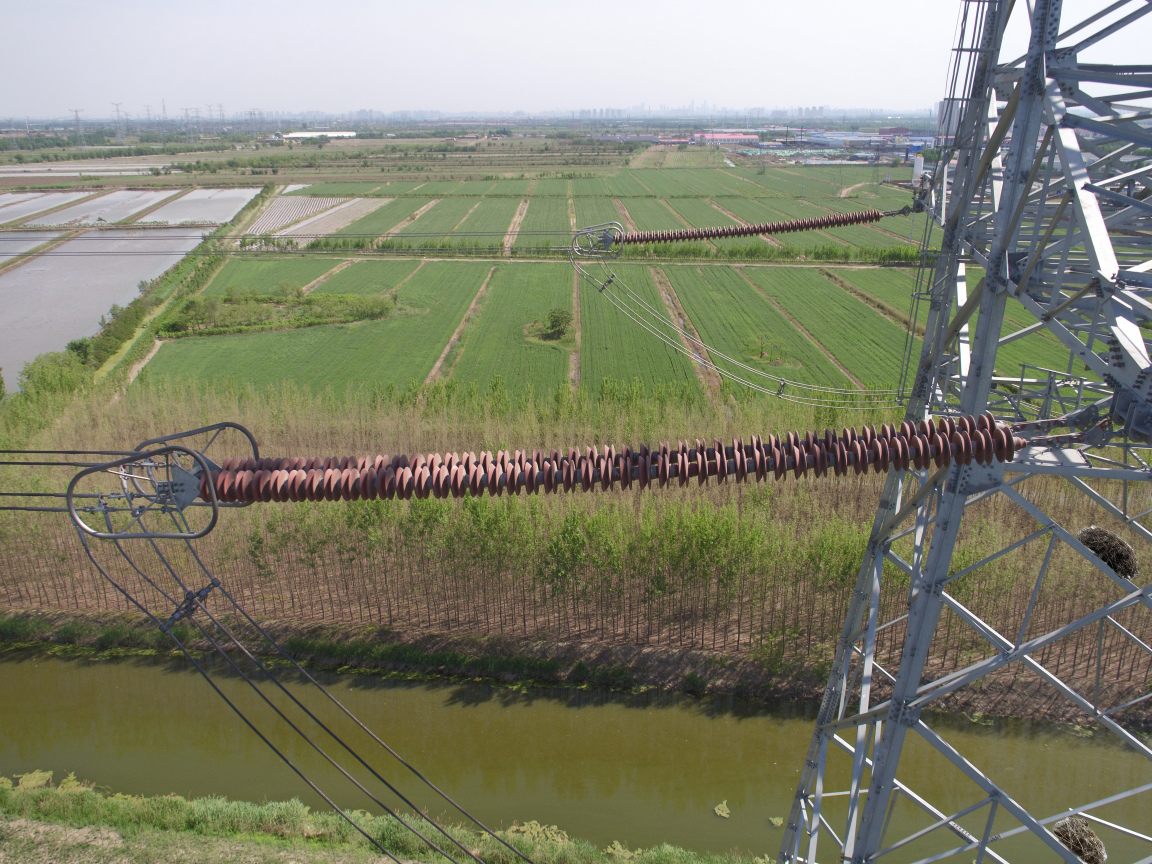nest: (1071, 516, 1140, 588), (1045, 808, 1116, 864)
